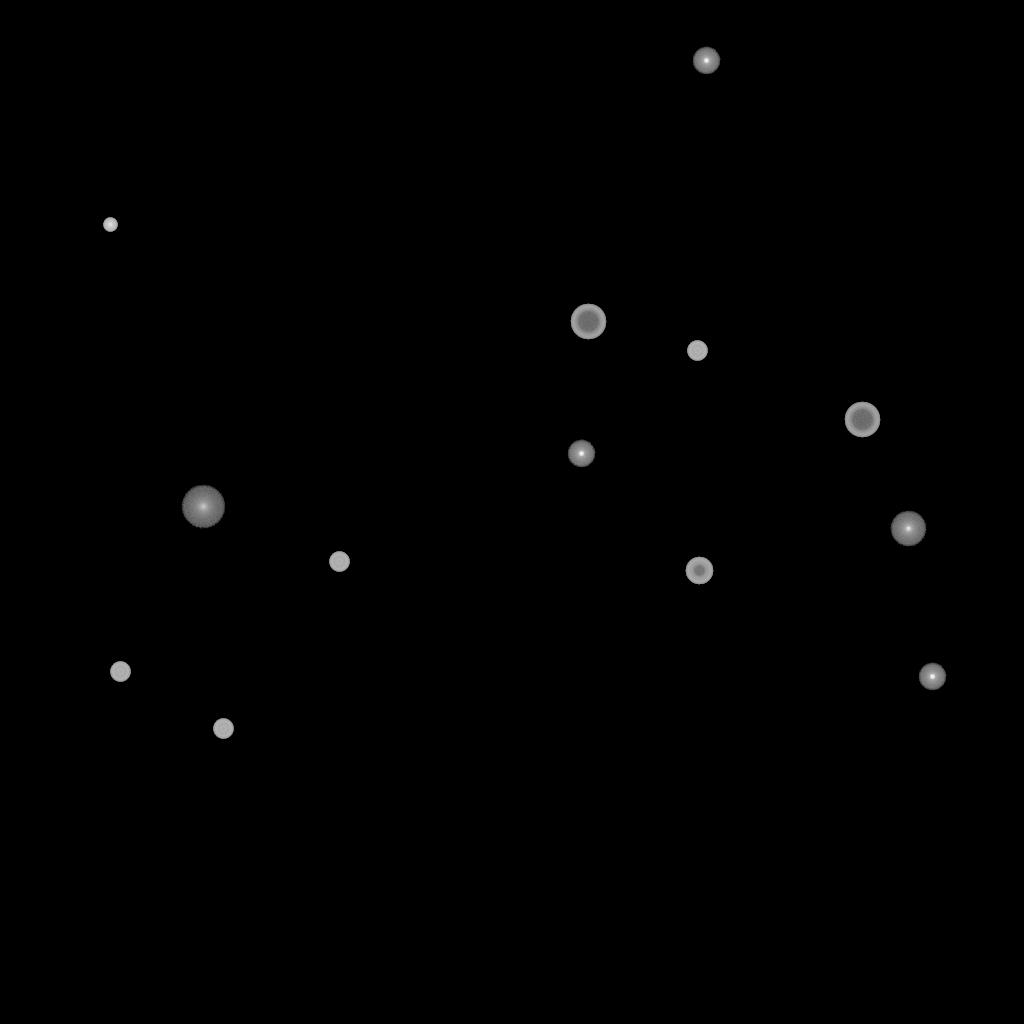depth:-10: (918, 663, 946, 691), (692, 47, 720, 75), (567, 440, 595, 468)
depth:-30: (103, 218, 117, 232)
depth:-40: (110, 662, 130, 682), (213, 719, 233, 739), (687, 341, 707, 361), (329, 552, 349, 572)
depth:-50: (685, 557, 713, 585)
depth:-60: (844, 402, 880, 438), (570, 304, 606, 340)
depth:0: (890, 511, 926, 547)
depth:10: (181, 485, 225, 529)
